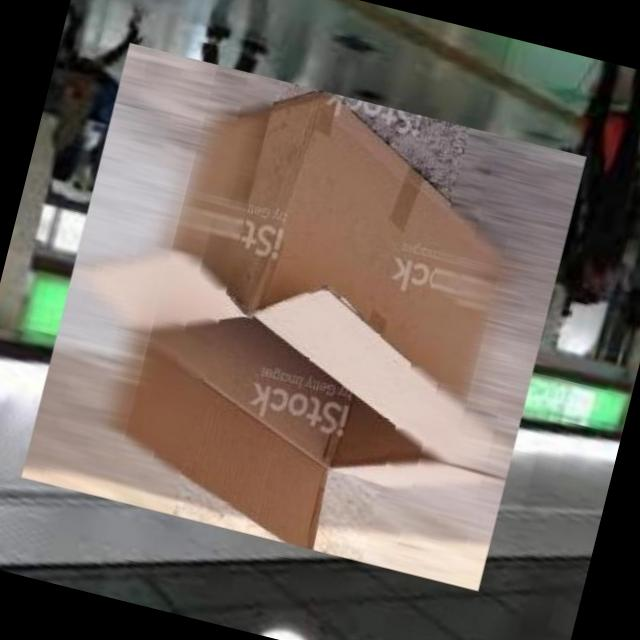box: (11, 32, 594, 599)
